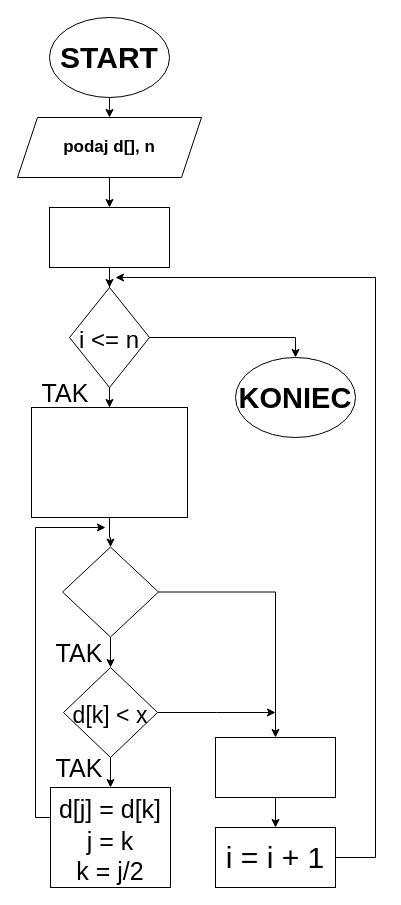
The diagram is 401 pixels wide and 905 high, and some of its shapes have lost their labels. The shapes that lost their labels are listed below. From the top down, each one's centre as x and y in pixels, then its label:
point (109, 237): i = 2
point (109, 462): j = i k = j/2 x = d[i]
point (110, 591): k > 0
point (275, 767): d[j] = x
